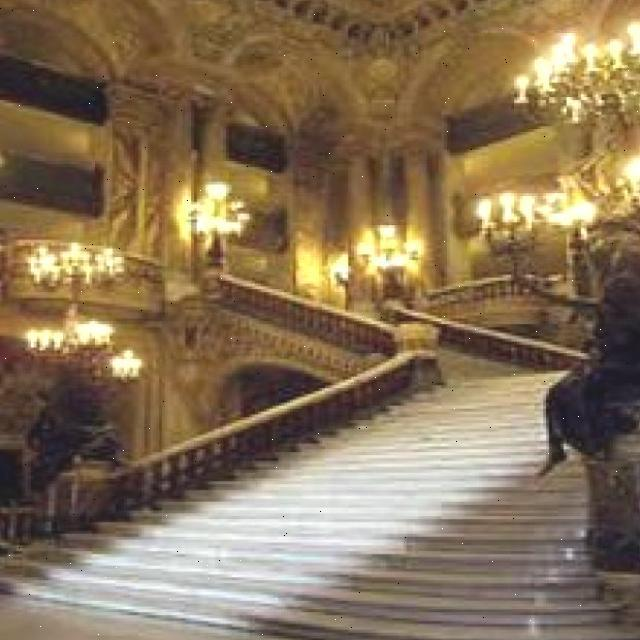stair: (145, 455, 575, 633)
